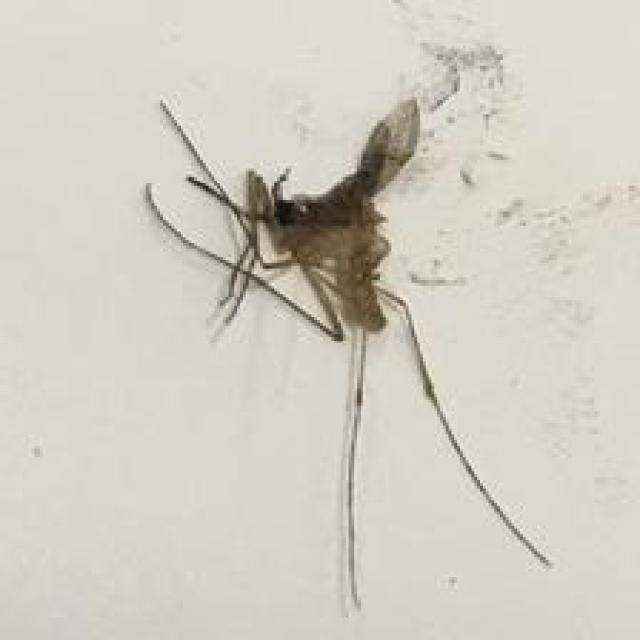Culex: (143, 92, 554, 617)
